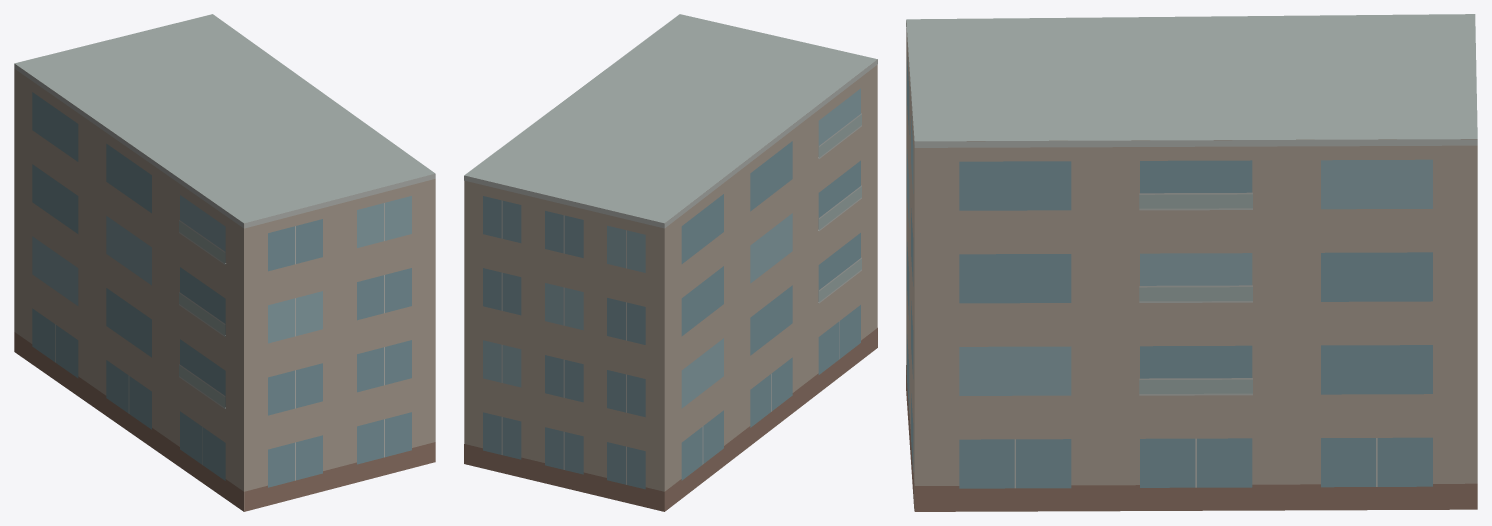
The model's file is survey-upis-32974189.glb.
The picture shows the model from 3 angles, left to right: view 1: azimuth 30°, elevation 25°; view 2: azimuth 150°, elevation 25°; view 3: azimuth 270°, elevation 25°; orthographic projection. The views are drawn at different scales.
Visible parts, largest first — view 1: survey-upis-32974189.tmp; view 2: survey-upis-32974189.tmp; view 3: survey-upis-32974189.tmp.
Boxes of the visible parts, bbox=[...] form: survey-upis-32974189.tmp: bbox=[14, 14, 435, 511]; survey-upis-32974189.tmp: bbox=[464, 14, 877, 511]; survey-upis-32974189.tmp: bbox=[906, 14, 1477, 511].
Bounding box in the file's own units: 10.07 × 13.65 × 19.09.
